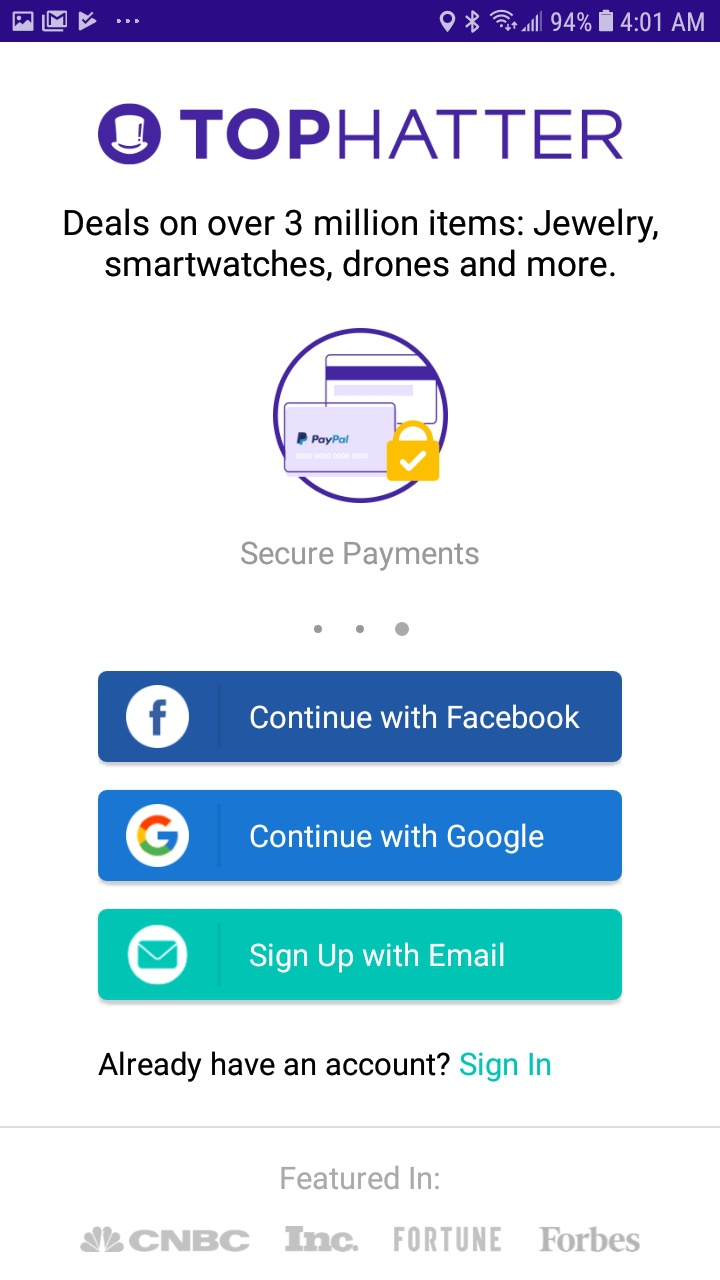Image: (273, 328, 449, 504), (98, 104, 162, 166), (80, 1225, 125, 1253)
PageIndicator: (314, 622, 410, 638)
Text: (64, 208, 659, 283), (180, 108, 624, 161), (98, 1051, 551, 1083), (241, 541, 480, 572), (281, 1165, 440, 1191), (129, 1228, 251, 1253), (538, 1225, 641, 1253), (394, 1226, 502, 1252), (285, 1225, 359, 1253)
TextButton: (98, 671, 623, 763), (98, 790, 623, 882), (98, 909, 623, 1001)
UpperTaskBar: (1, 1, 720, 43)
